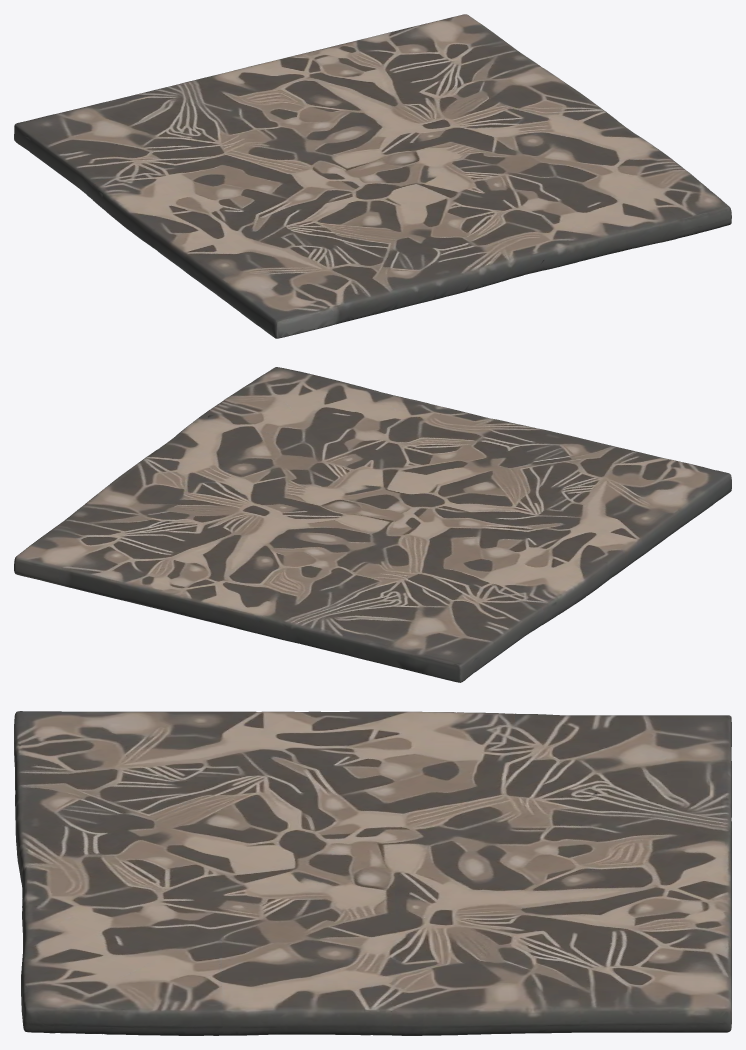
The model's file is emerald-carpet.glb.
The picture shows the model from 3 angles, top to bottom: view 1: azimuth 30°, elevation 25°; view 2: azimuth 150°, elevation 25°; view 3: azimuth 270°, elevation 25°; orthographic projection. The views are drawn at different scales.
Size of the model in its own units: 2 by 0.084 by 2.
1 material, 1 textured.
